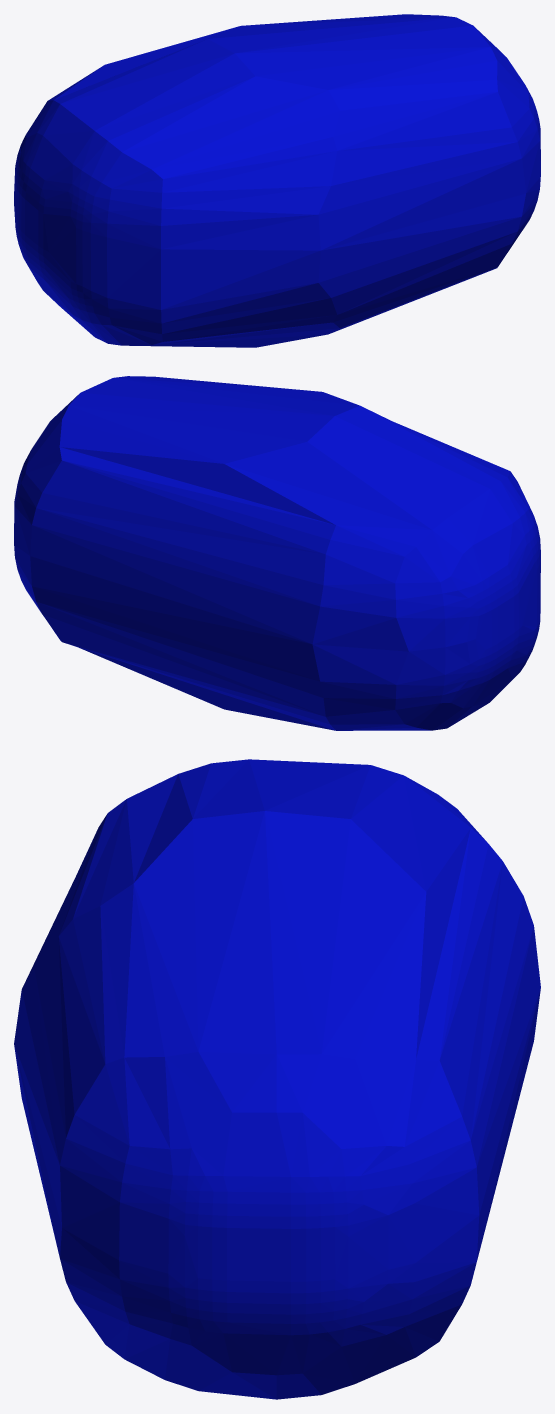
Rendered from COL_hollie_real.022.dae.
3 views of the same model, one above another, from view 1: azimuth 30°, elevation 25°; view 2: azimuth 150°, elevation 25°; view 3: azimuth 270°, elevation 25° (orthographic). The views are drawn at different scales.
Parts seen in each view (by area): view 1: COL_COL_COL_VIS_VIS_VIS_VIS_VIS_VIS_VIS_VIS_VIS_hollie_real_; view 2: COL_COL_COL_VIS_VIS_VIS_VIS_VIS_VIS_VIS_VIS_VIS_hollie_real_; view 3: COL_COL_COL_VIS_VIS_VIS_VIS_VIS_VIS_VIS_VIS_VIS_hollie_real_.
Part boxes in pixels (x1,y1,x2,y2): COL_COL_COL_VIS_VIS_VIS_VIS_VIS_VIS_VIS_VIS_VIS_hollie_real_: (14, 14, 540, 347); COL_COL_COL_VIS_VIS_VIS_VIS_VIS_VIS_VIS_VIS_VIS_hollie_real_: (14, 376, 540, 730); COL_COL_COL_VIS_VIS_VIS_VIS_VIS_VIS_VIS_VIS_VIS_hollie_real_: (14, 759, 540, 1399).
Size of the model in its own units: 0.1008 by 0.061 by 0.0579.
